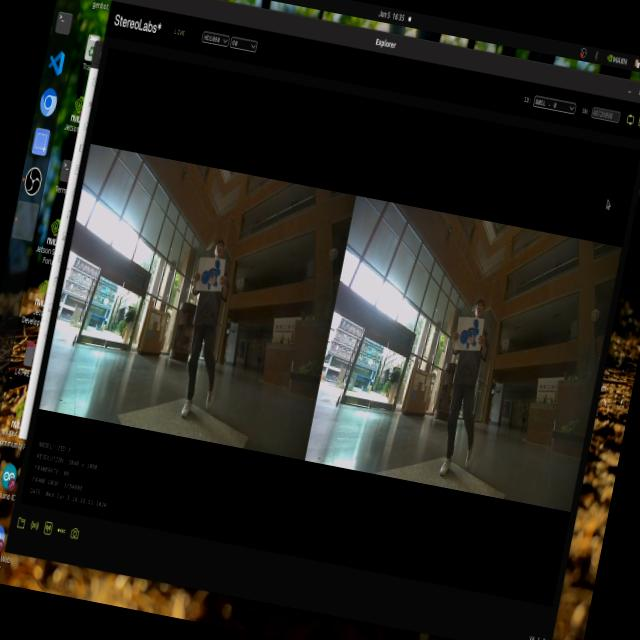blue: (451, 310, 487, 356), (194, 258, 230, 299)
